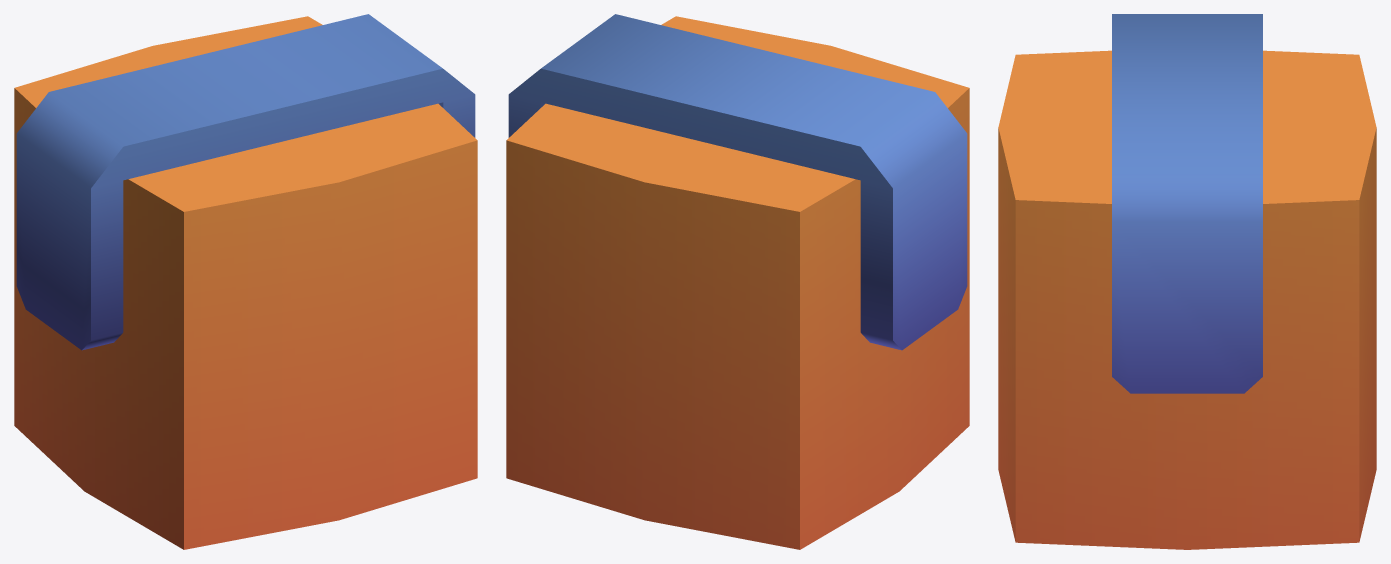
The model's file is box-small.obj.
3 renders of one model, left to right at view 1: azimuth 30°, elevation 25°; view 2: azimuth 150°, elevation 25°; view 3: azimuth 270°, elevation 25°, orthographic.
Visible parts, largest first — view 1: box-small; view 2: box-small; view 3: box-small.
Part boxes in pixels (bbox=[...]): box-small: bbox=[14, 14, 477, 549]; box-small: bbox=[506, 14, 969, 549]; box-small: bbox=[998, 14, 1376, 549].
Size of the model in its own units: 0.595 by 0.55 by 0.5.
